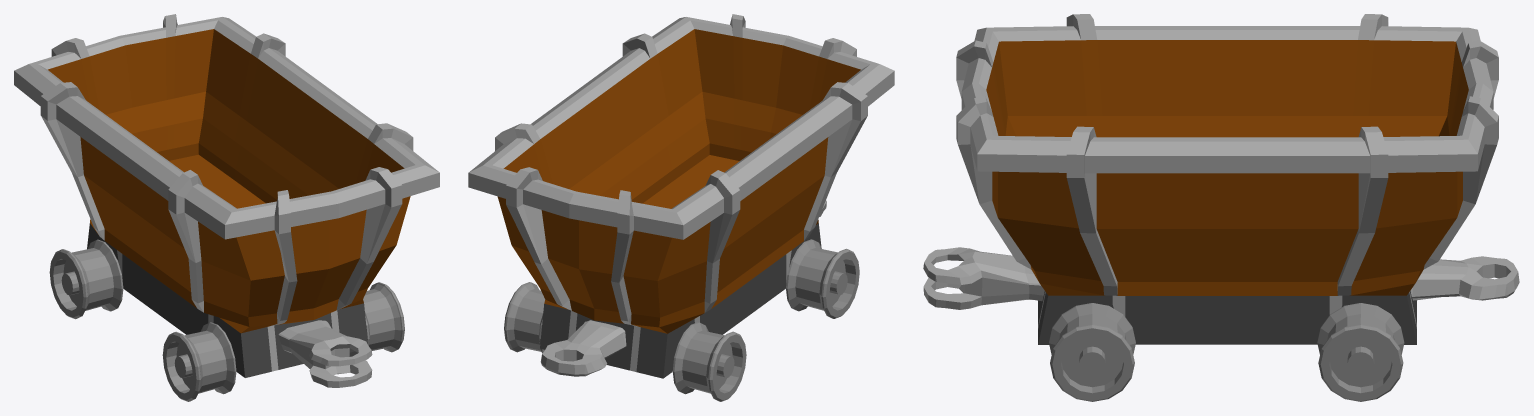
File: MineCart.fbx
The picture shows the model from 3 angles, left to right: view 1: azimuth 30°, elevation 25°; view 2: azimuth 150°, elevation 25°; view 3: azimuth 270°, elevation 25°; orthographic projection. The views are drawn at different scales.
Visible parts, largest first — view 1: MineCartEmty; view 2: MineCartEmty; view 3: MineCartEmty.
Part boxes in pixels (<box>): MineCartEmty: <box>14,14,439,401</box>; MineCartEmty: <box>468,14,894,401</box>; MineCartEmty: <box>923,14,1519,401</box>.
Size of the model in its own units: 0.9509 by 0.8727 by 1.74.
